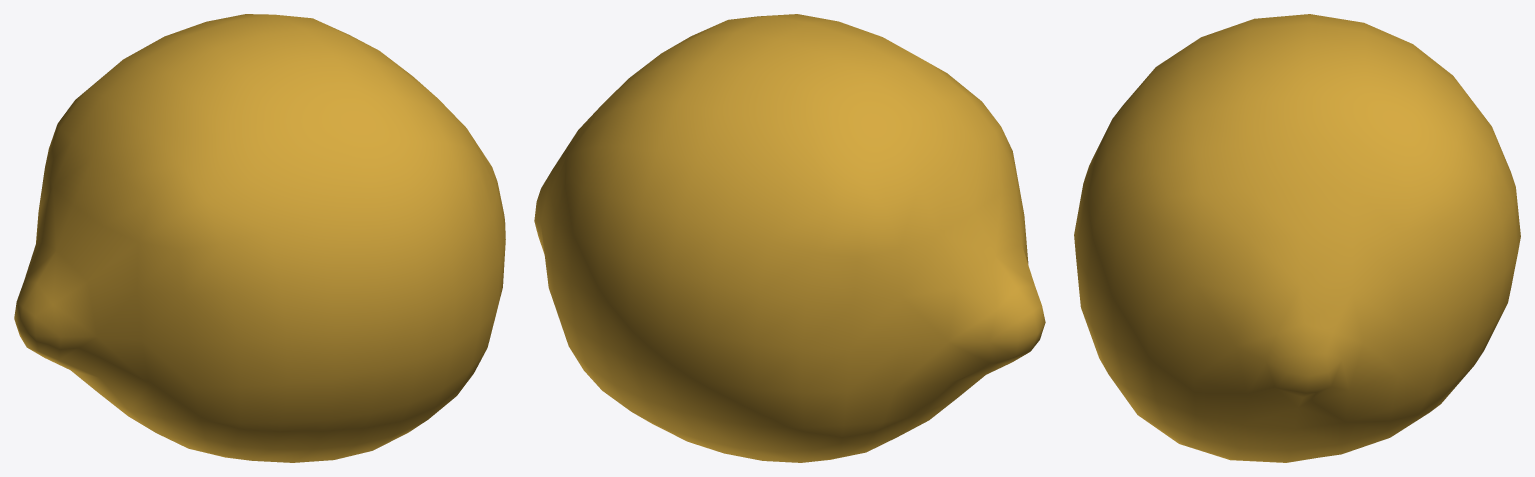
File: Lemon_01.dae
3 renders of one model, left to right at view 1: azimuth 30°, elevation 25°; view 2: azimuth 150°, elevation 25°; view 3: azimuth 270°, elevation 25°, orthographic. The views are drawn at different scales.
Parts seen in each view (by area): view 1: Lemon_01_LOD0; view 2: Lemon_01_LOD0; view 3: Lemon_01_LOD0.
Boxes of the visible parts, x1,y1,x2,y2 form: Lemon_01_LOD0: (14, 14, 505, 462); Lemon_01_LOD0: (534, 14, 1045, 462); Lemon_01_LOD0: (1074, 14, 1520, 462).
Size of what is drawn, in the model's own units: 4.52 by 3.73 by 3.6.
